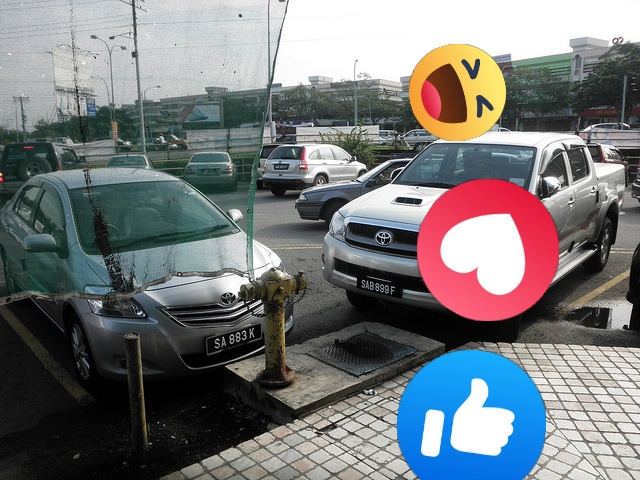haha: (409, 44, 506, 141)
like: (397, 350, 546, 480)
love: (417, 179, 559, 321)
